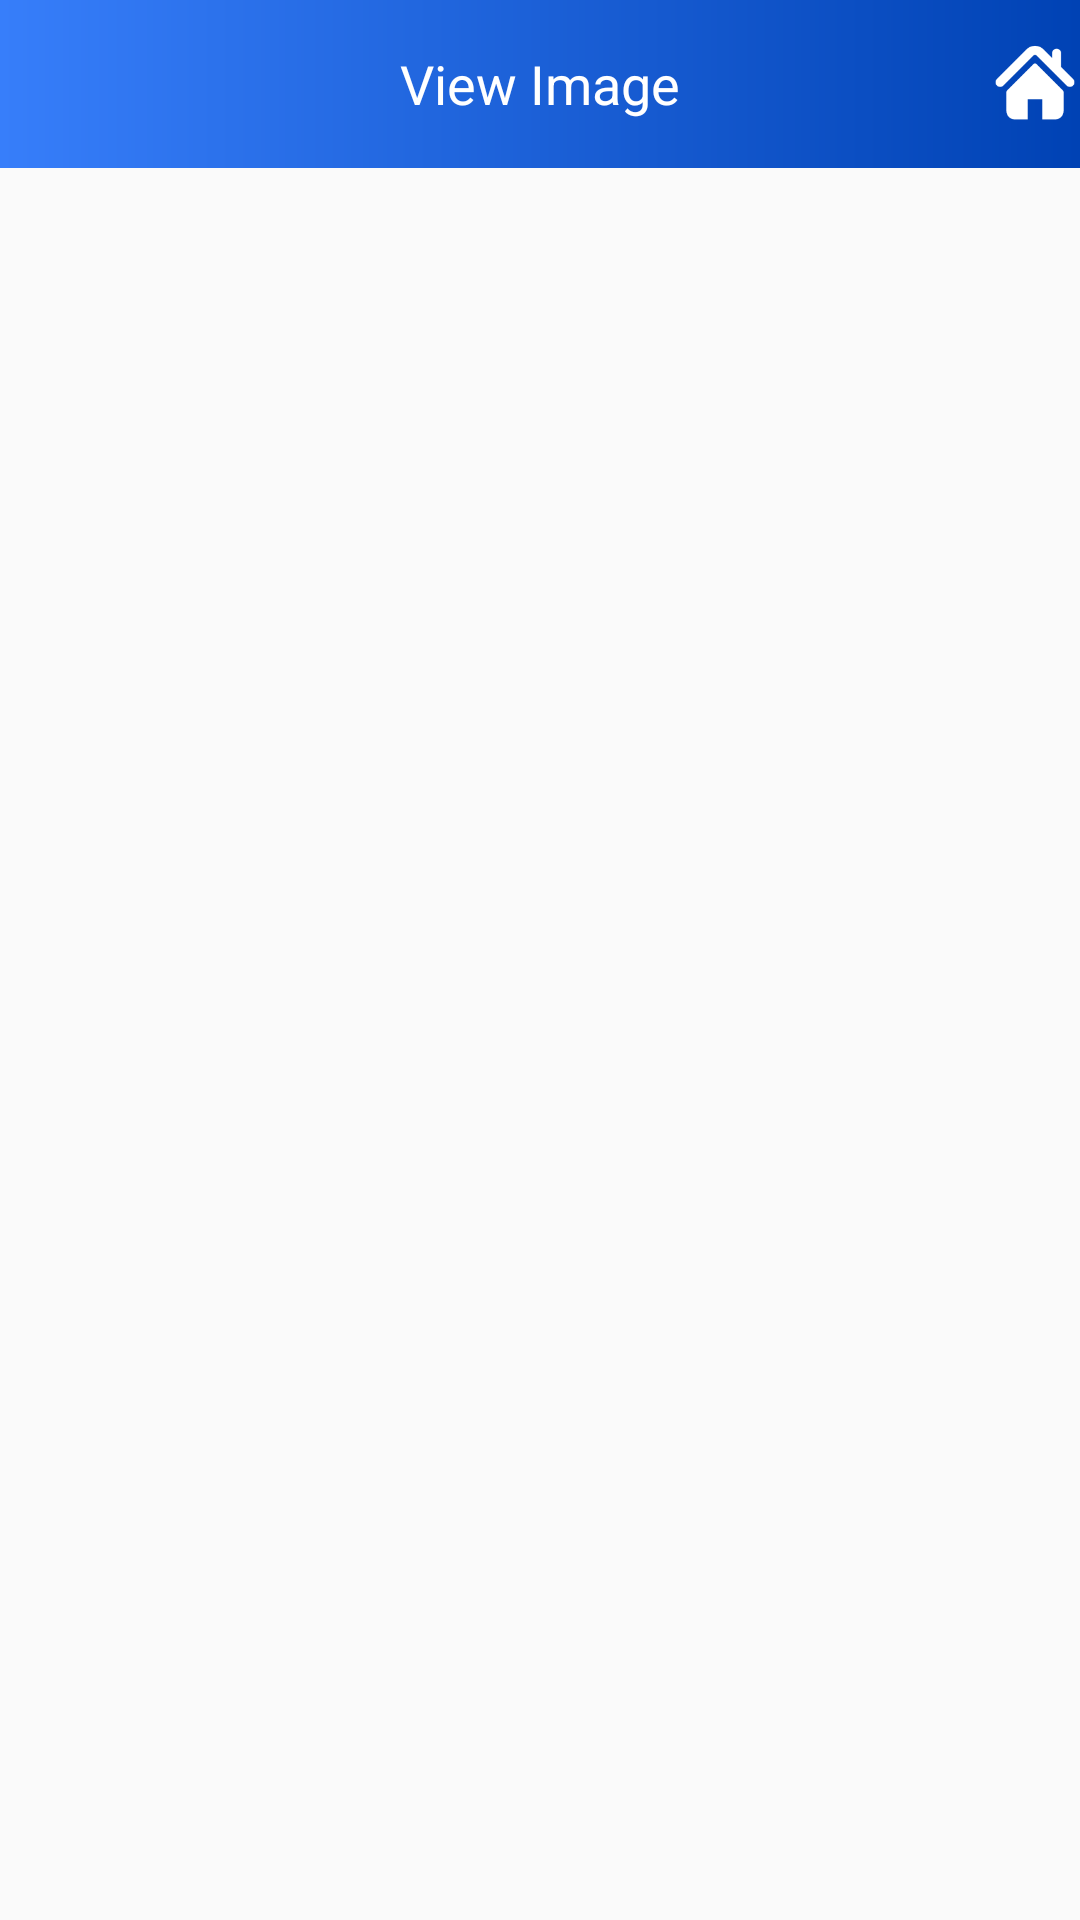

Screen size 1080 × 1920. Icon name, then its center in pixels as point (x, y):
home: point (1035, 83)
